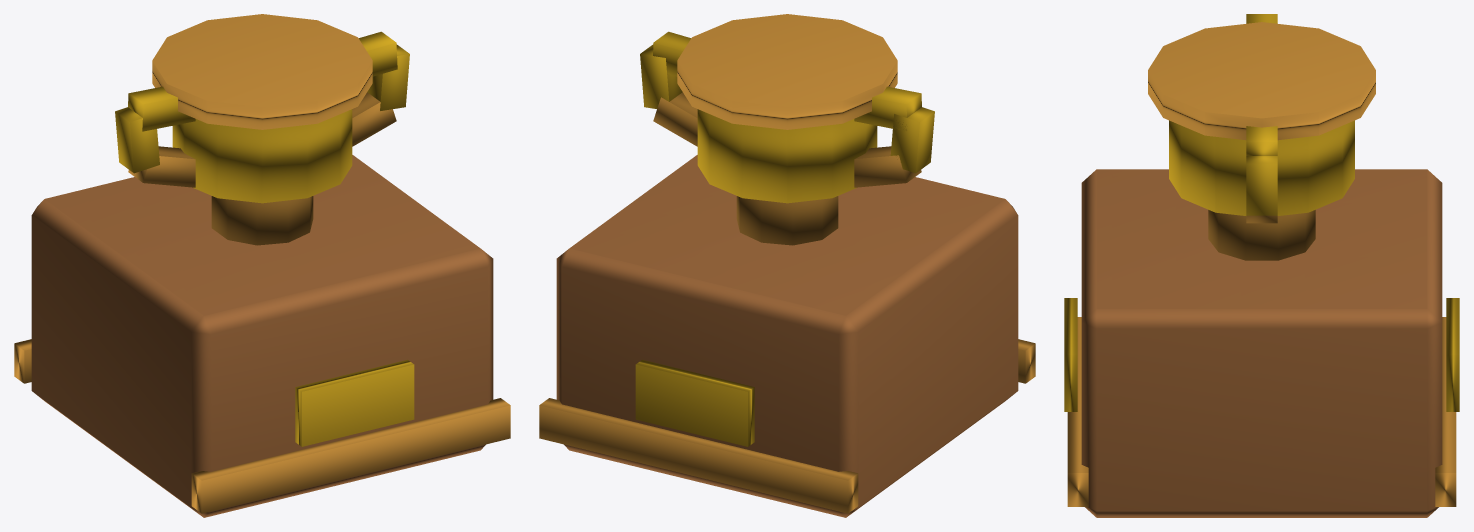
Rendered from cargo_trophy.glb.
3 views of the same model, side by side, from view 1: azimuth 30°, elevation 25°; view 2: azimuth 150°, elevation 25°; view 3: azimuth 270°, elevation 25° (orthographic). The views are drawn at different scales.
Visible parts, largest first — view 1: Wooden trophy crate; view 2: Wooden trophy crate; view 3: Wooden trophy crate.
Boxes of the visible parts, x1,y1,x2,y2 form: Wooden trophy crate: [14, 14, 510, 517]; Wooden trophy crate: [539, 14, 1035, 517]; Wooden trophy crate: [1064, 14, 1459, 517].
Size of the model in its own units: 0.44 by 0.497 by 0.4715.
